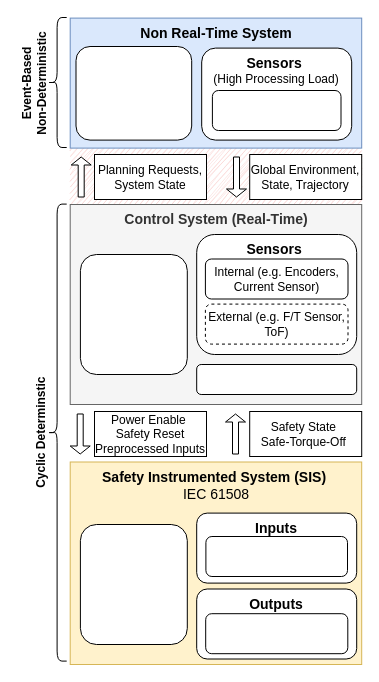
Image size: 379x682. Some labels were removed from this diagram. Each missing label, with the centre of its shape:
"Actuators" belongs at [276,379].
"Application (Task/Motion Planning, Computer Vision)" belongs at [133,93].
"Brakes, Power Contactor" belongs at [276,633].
"Control Logic Executor (e.g. PLC, Embedded Robot Controller)" belongs at [133,314].
"Hardware Interlocks, E-Stop" belongs at [276,556].
"Lidar, RGBD-cameras" belongs at [276,110].
"Logic Solver (e.g. Safety PLC, Integrated Machine Safety)" belongs at [133,584].
